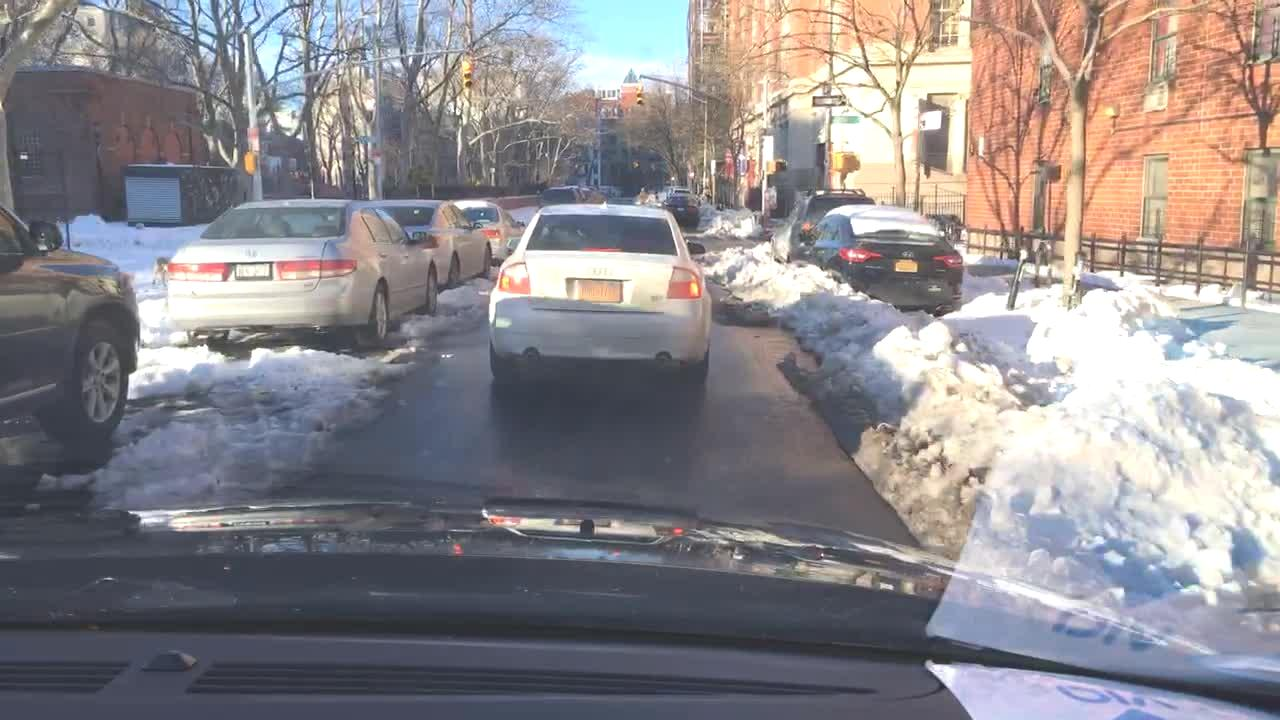Audi: (579, 258, 624, 280)
Honda: (243, 243, 260, 261)
